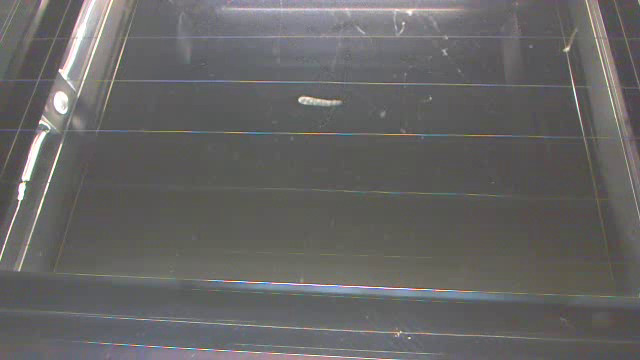Alfa: (294, 93, 349, 113)
